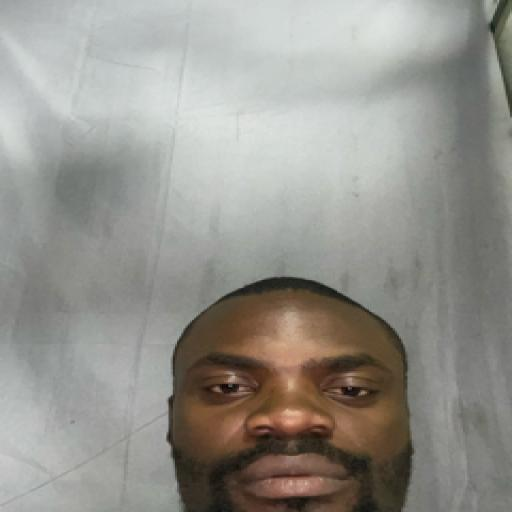JEANLUC: (146, 278, 424, 512)
